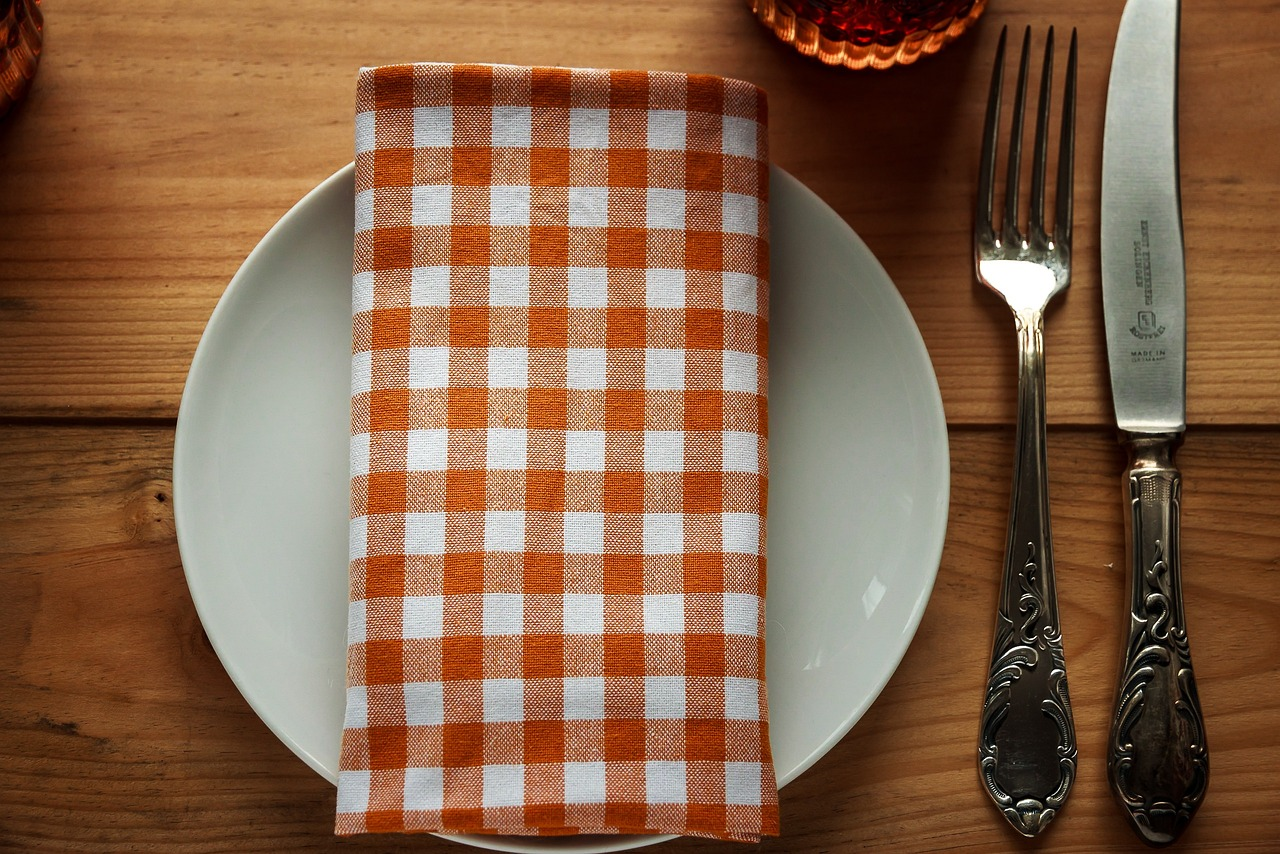knife: (1100, 6, 1216, 851)
